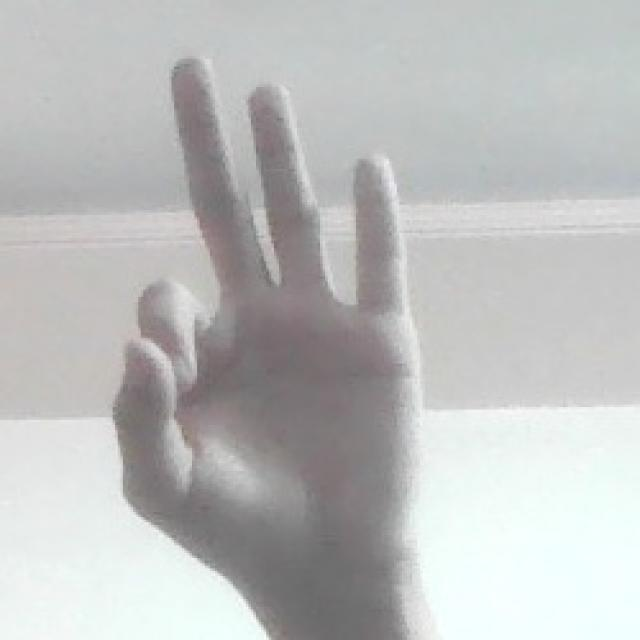Numeric-9: (110, 52, 424, 586)
